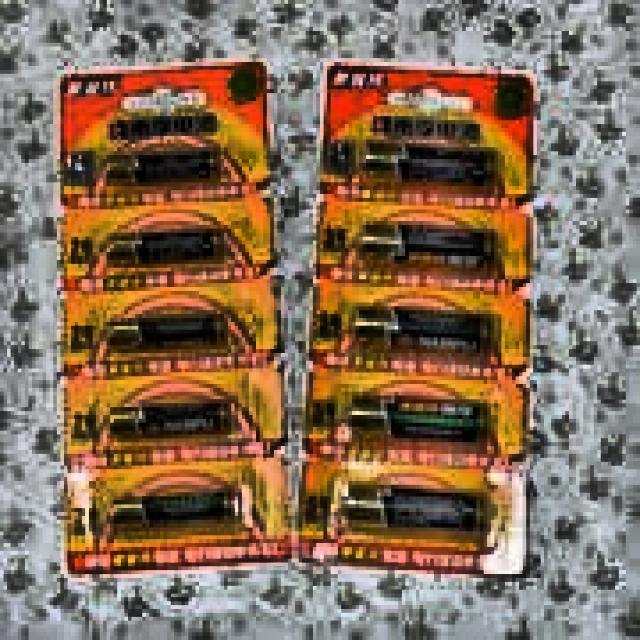Non-Valuable Waste - Batteries: (300, 64, 532, 573), (61, 63, 291, 573)
